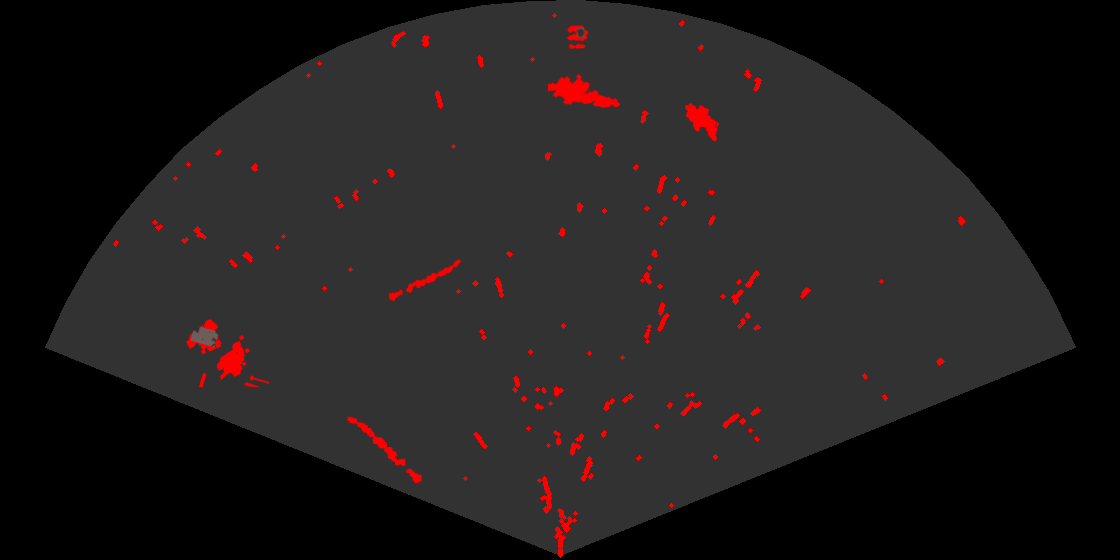AUV: (683, 102, 719, 143)
ball: (565, 24, 590, 50)
cage: (184, 318, 269, 387)
chain: (346, 415, 423, 485), (383, 258, 463, 304)
frogman: (548, 72, 622, 109)
